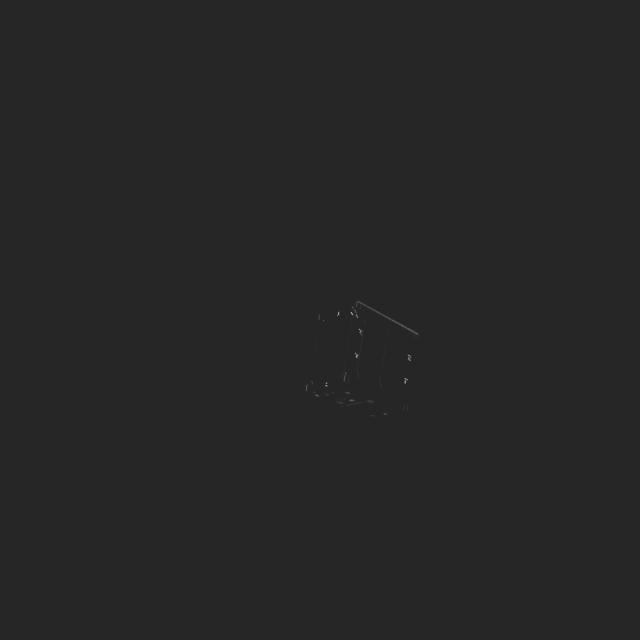satellite: (294, 295, 429, 437)
